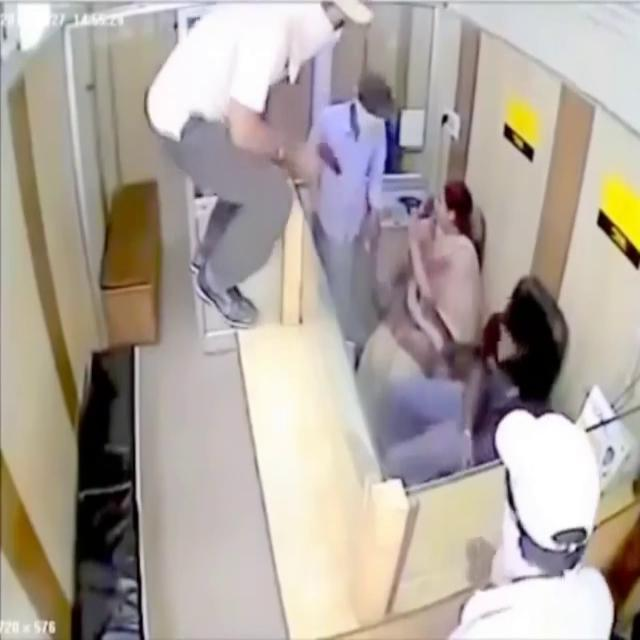weapon: (311, 136, 345, 188)
